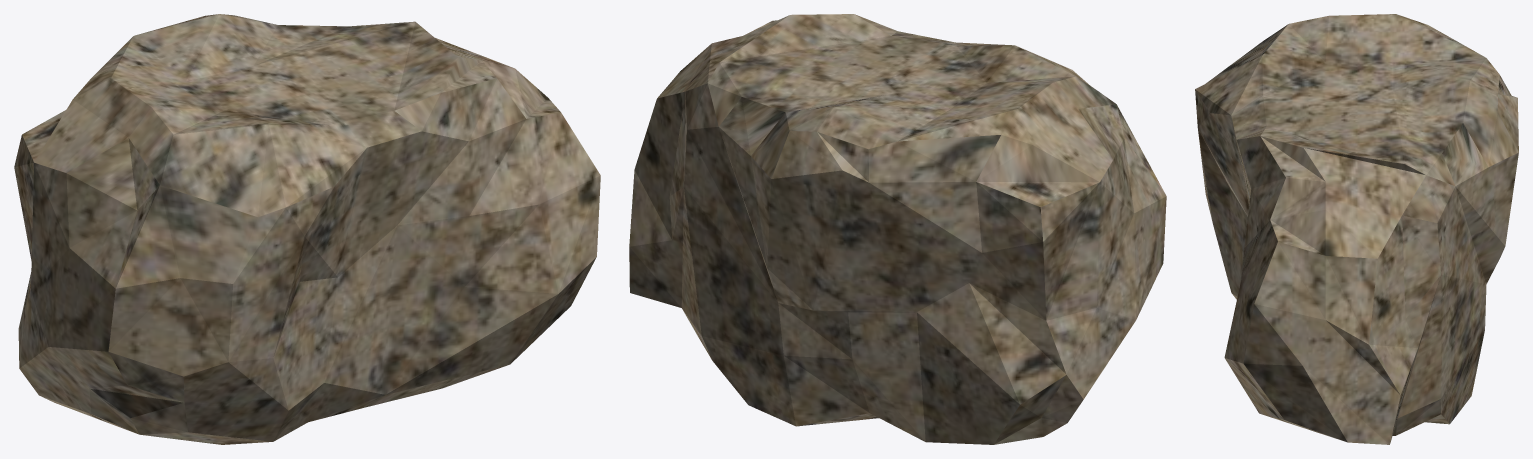
File: rock_rock_3.glb
The picture shows the model from 3 angles, left to right: view 1: azimuth 30°, elevation 25°; view 2: azimuth 150°, elevation 25°; view 3: azimuth 270°, elevation 25°; orthographic projection. The views are drawn at different scales.
Parts seen in each view (by area): view 1: Rock03v3_Rock03.003; view 2: Rock03v3_Rock03.003; view 3: Rock03v3_Rock03.003.
Part boxes in pixels (left/top/right/bottom): Rock03v3_Rock03.003: left=14, top=14, right=600, bottom=444; Rock03v3_Rock03.003: left=629, top=14, right=1166, bottom=444; Rock03v3_Rock03.003: left=1195, top=14, right=1518, bottom=444.
Bounding box in the file's own units: 0.685 × 0.438 × 0.423.
Materials: 1 (1 with a texture image).
